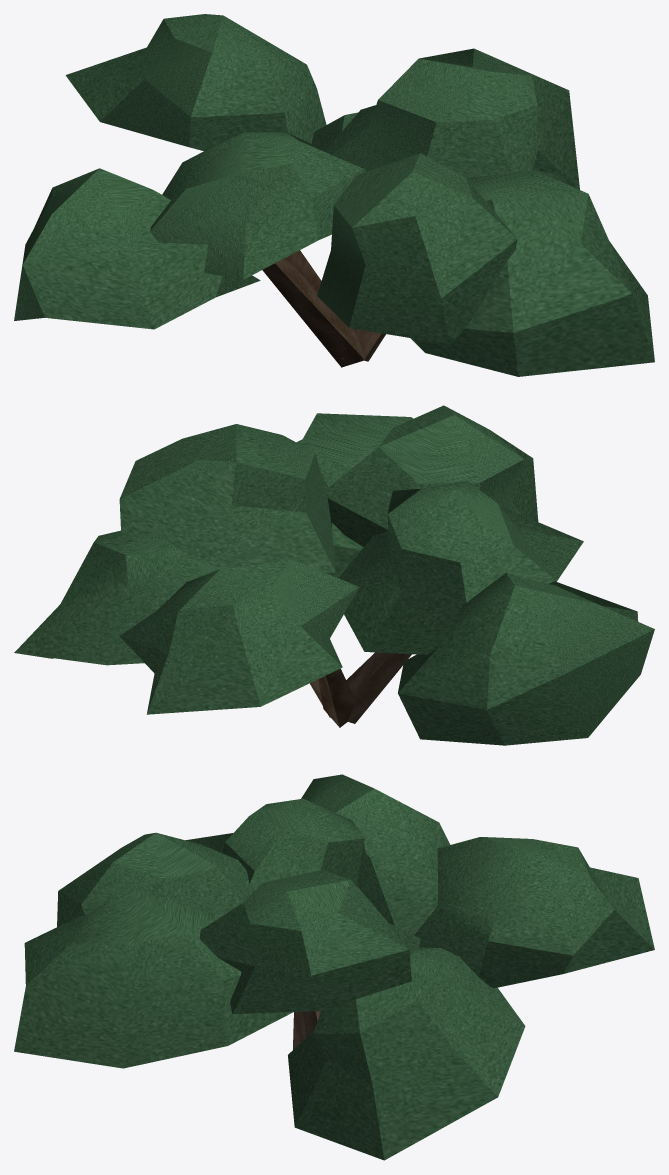
The model's file is bush_2.glb.
The picture shows the model from 3 angles, top to bottom: view 1: azimuth 30°, elevation 25°; view 2: azimuth 150°, elevation 25°; view 3: azimuth 270°, elevation 25°; orthographic projection. The views are drawn at different scales.
Parts seen in each view (by area): view 1: bush_2; view 2: bush_2; view 3: bush_2.
Part boxes in pixels (x1,y1,x2,y2): bush_2: (14, 14, 654, 376); bush_2: (14, 405, 654, 745); bush_2: (14, 774, 654, 1160).
Size of the model in its own units: 2.59 by 1.14 by 2.76.
2 materials, 2 textured.
